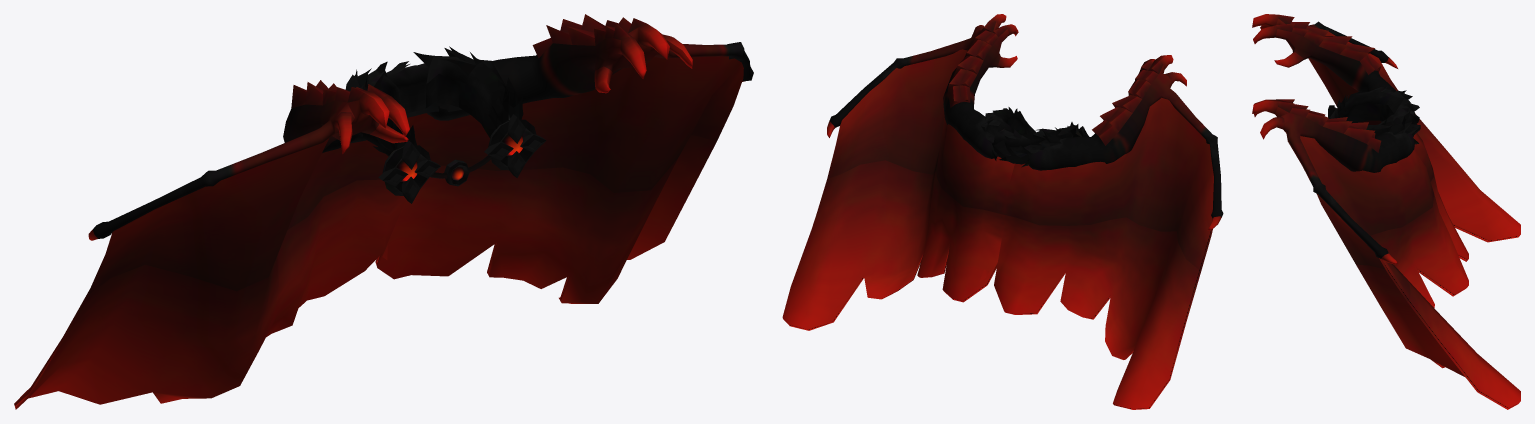
File: Cape_02.fbx
The picture shows the model from 3 angles, left to right: view 1: azimuth 30°, elevation 25°; view 2: azimuth 150°, elevation 25°; view 3: azimuth 270°, elevation 25°; orthographic projection. The views are drawn at different scales.
Parts seen in each view (by area): view 1: pPlane3; view 2: pPlane3; view 3: pPlane3.
Part boxes in pixels (x1,y1,x2,y2): pPlane3: (14, 14, 753, 409); pPlane3: (782, 14, 1223, 409); pPlane3: (1252, 14, 1520, 409).
Size of the model in its own units: 14.42 by 8.63 by 8.14.
1 material, 1 textured.
